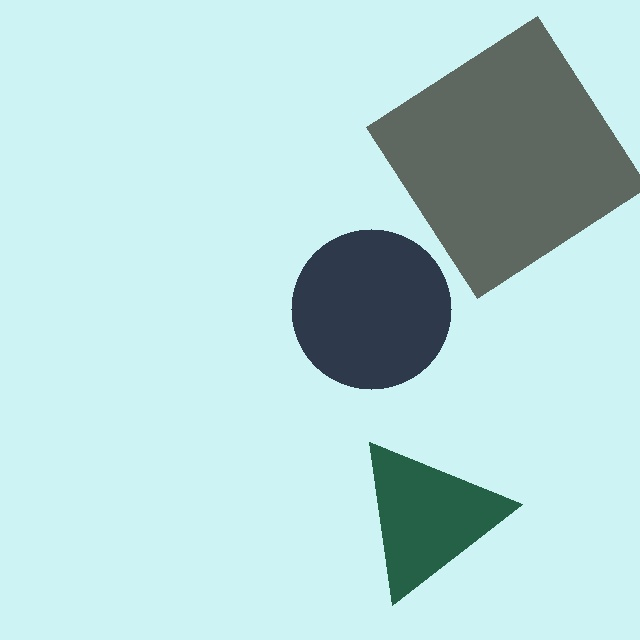circle: (291, 228, 452, 389)
square: (365, 15, 639, 298)
triangle: (369, 442, 523, 606)
